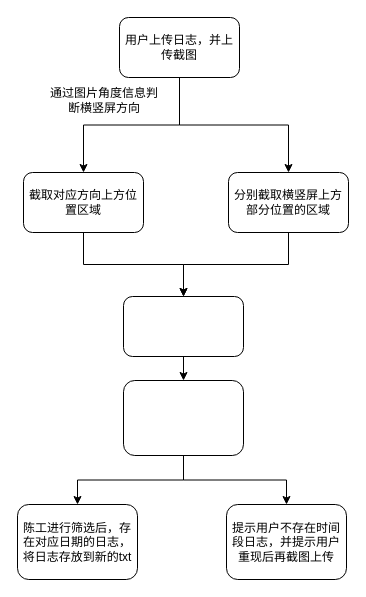
Image size: 366x597. Some labels were removed from this diagram. The centre of each missing label's shape, as x and y in pixels:
"得到日期时间后，对本地的日志，以日期时间为条件进行关键过滤" goes at (183,418).
"通过ocr或者神经网络技术进行区域内识别日期时间信息，一般精确到分钟" goes at (183,326).
